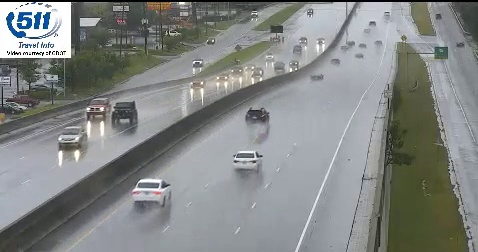car: (133, 178, 171, 204), (233, 151, 261, 171), (245, 108, 269, 125)
